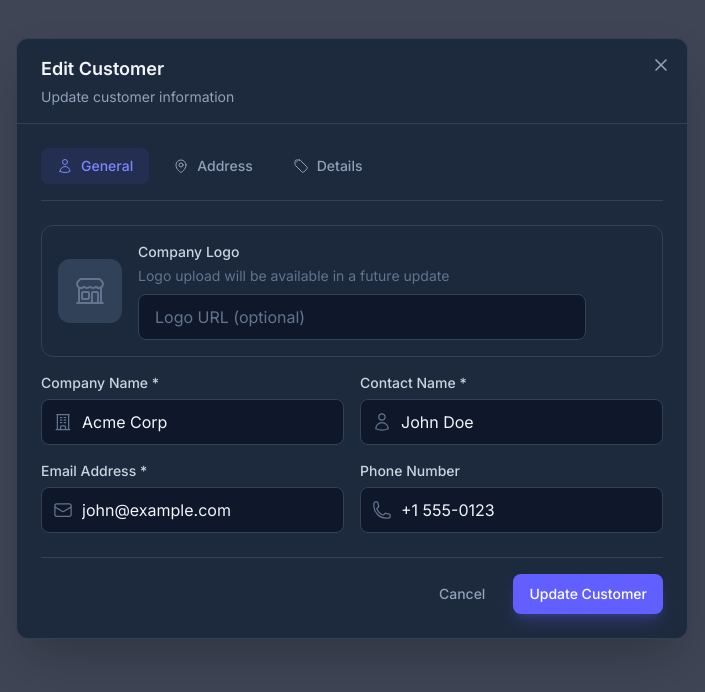
it: CustomerForm › Address tab fields › pre-fills address data in edit mode
The width and height of the screenshot is (705, 692).
Click the button "Address".
click(213, 166)  # box [157,148,269,184]
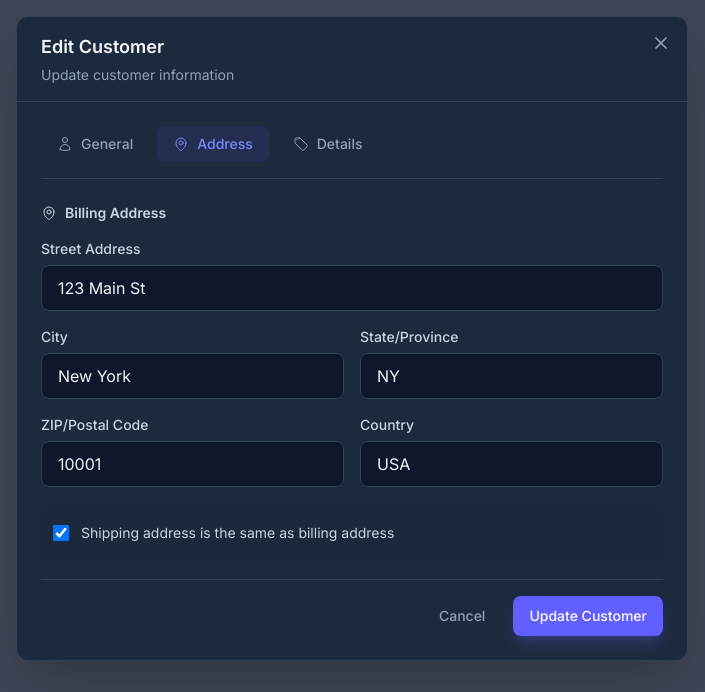
Check: the field showing "123 Main St" is shown, box [41,264,663,310]
Check: the field showing "New York" is shown, box [41,352,344,398]
Check: the field showing "NY" is shown, box [360,352,663,398]
